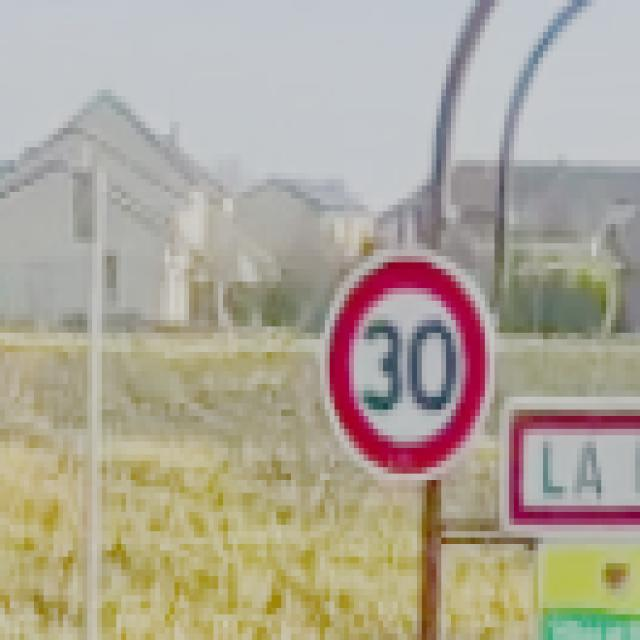speed_30: (319, 247, 498, 489)
